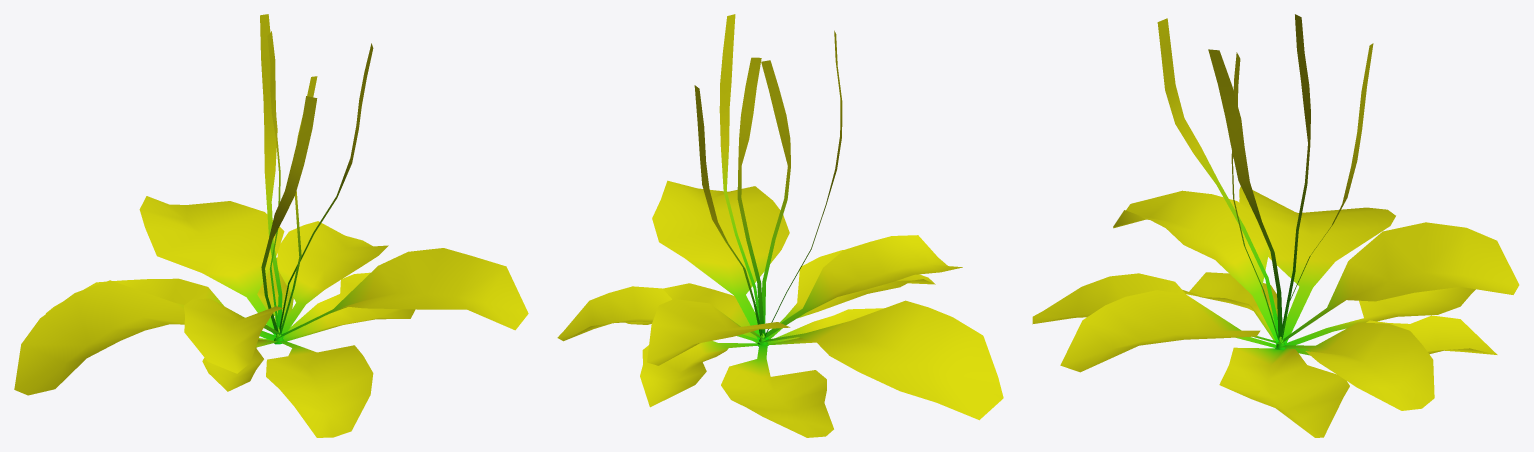
File: Broadleaf Plantain_LOD0_Var2_sfhjc.fbx
3 views of the same model, side by side, from view 1: azimuth 30°, elevation 25°; view 2: azimuth 150°, elevation 25°; view 3: azimuth 270°, elevation 25° (orthographic). The views are drawn at different scales.
Visible parts, largest first — view 1: _4024_Var2_LOD0; view 2: _4024_Var2_LOD0; view 3: _4024_Var2_LOD0.
Part boxes in pixels (box(x1,y1,x2,y2)): _4024_Var2_LOD0: box(14, 14, 528, 437); _4024_Var2_LOD0: box(557, 14, 1003, 437); _4024_Var2_LOD0: box(1032, 14, 1519, 437).
Size of the model in its own units: 38.34 by 26.88 by 35.18.
